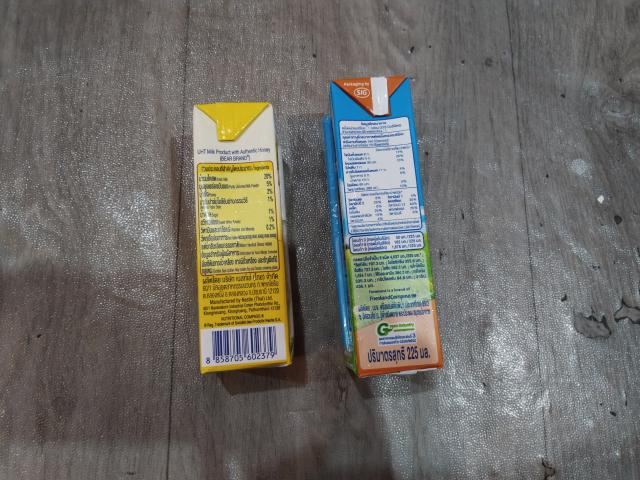drink_box: (325, 76, 444, 379), (192, 102, 293, 373)
